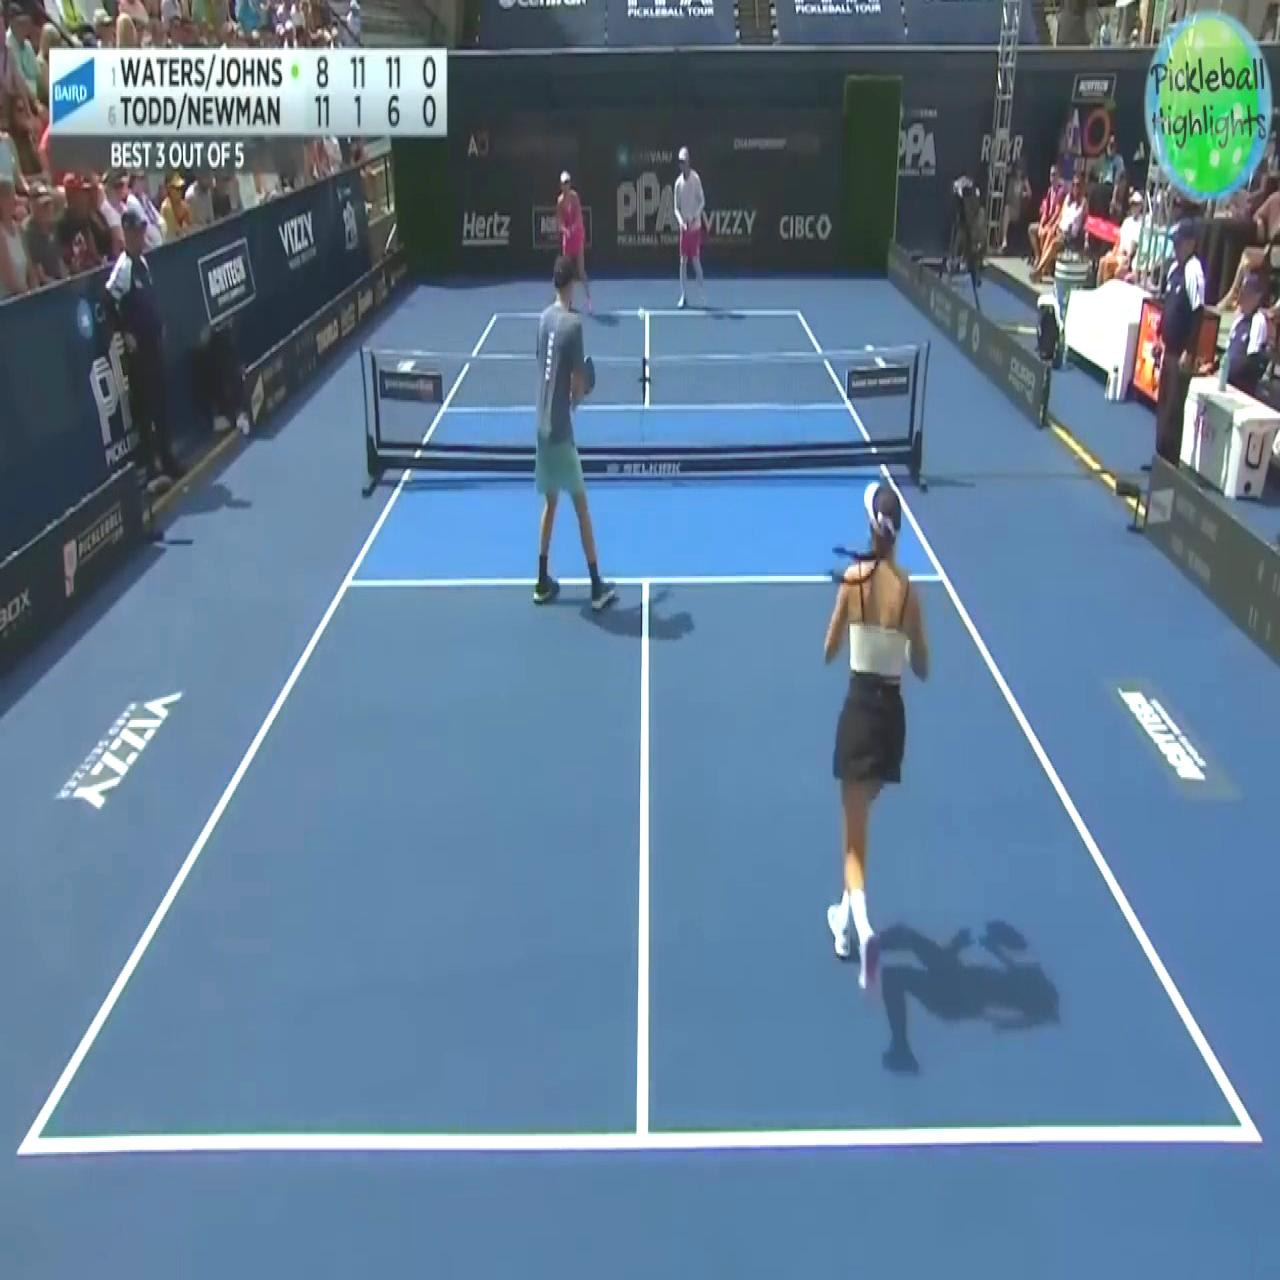Pickleball: (634, 305, 645, 326)
